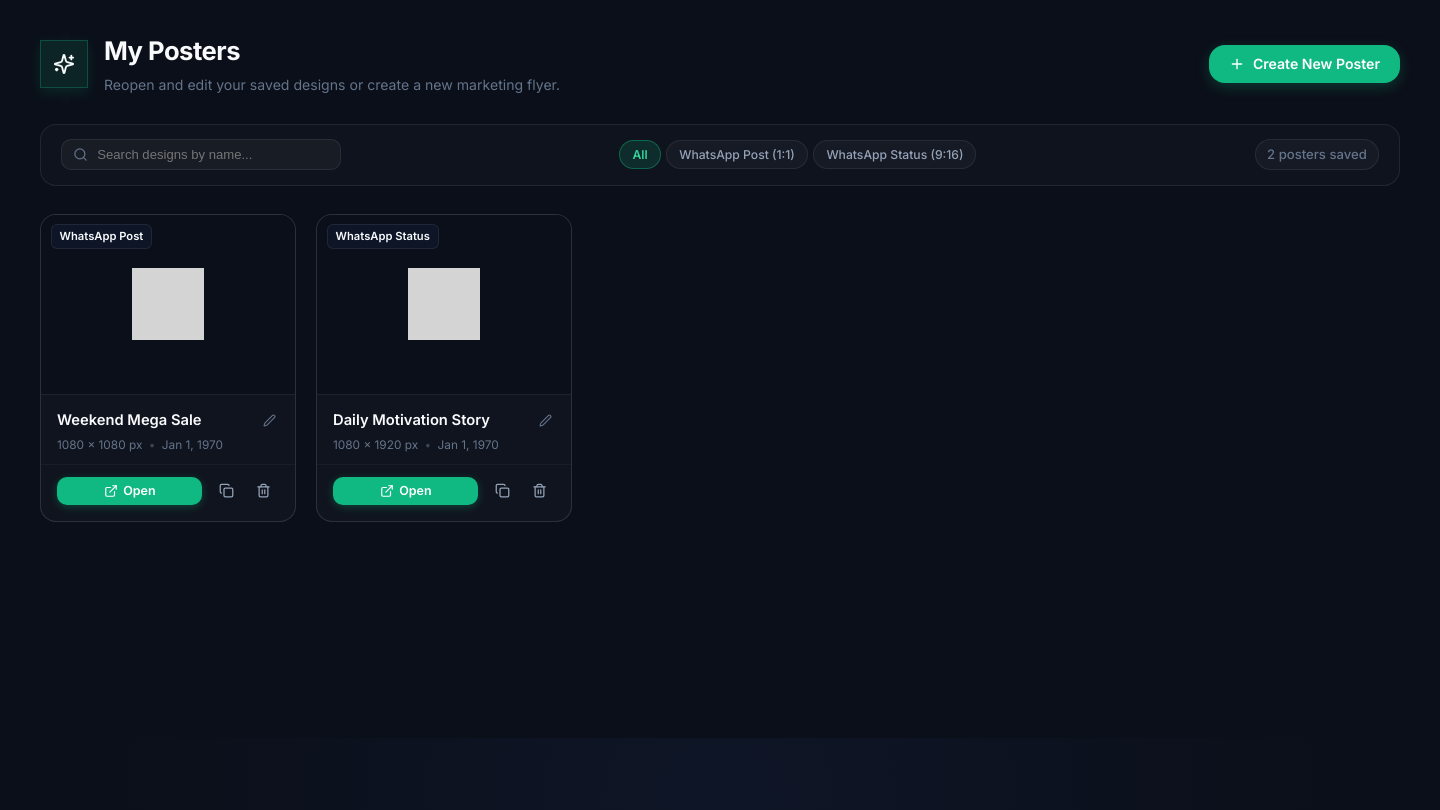
Test case: Phase 3B: Gallery-First Landing Screen Integration Tests › 4. Create New Poster Flow › opens fresh editor without modifying or overwriting previously saved designs
This screenshot has width=1440, height=810.
Check: the heading "Weekend Mega Sale" is shown, box x1=57 y1=409 x2=202 y2=431
# Click "Create New Poster" from the gallery header
Click the button "Create New Poster".
click(1304, 64)  # box x1=1209 y1=45 x2=1400 y2=83
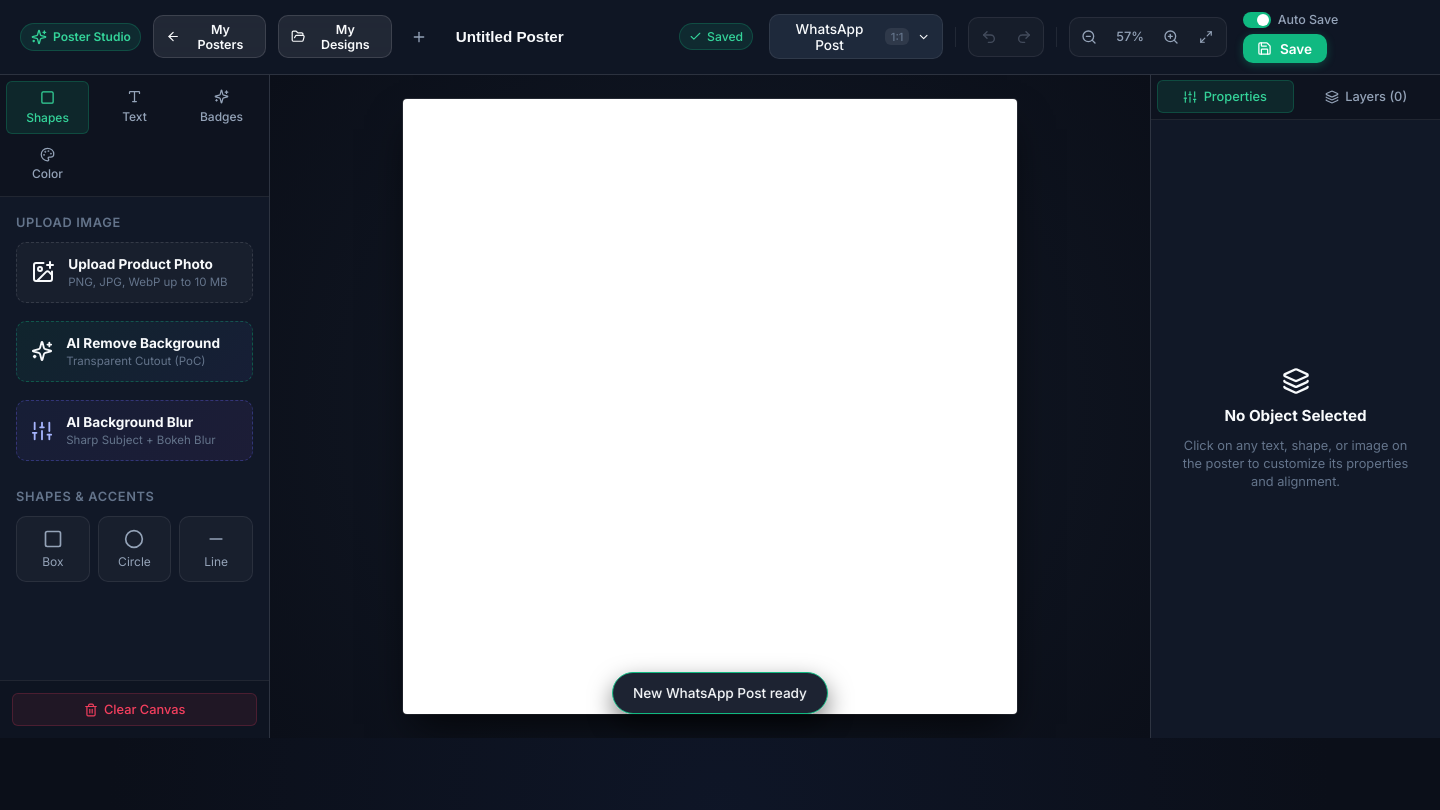
Check: the field named "Poster project title" holds "Untitled Poster", box x1=447 y1=23 x2=667 y2=50
